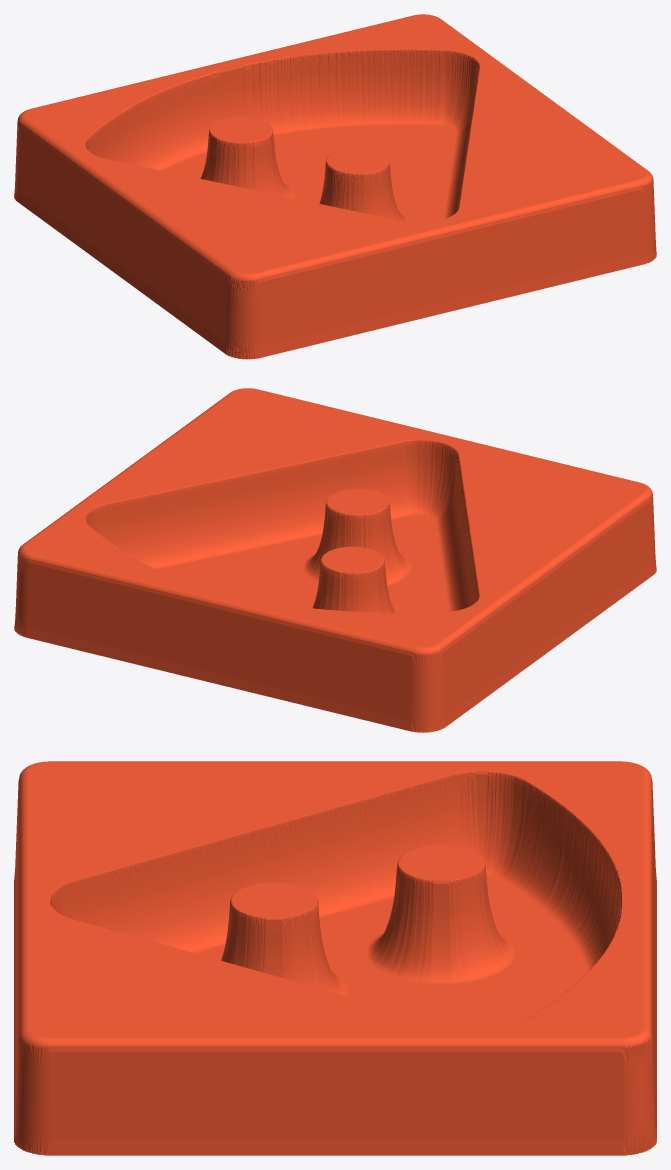
File: mold.glb
3 views of the same model, one above another, from view 1: azimuth 30°, elevation 25°; view 2: azimuth 150°, elevation 25°; view 3: azimuth 270°, elevation 25° (orthographic). The views are drawn at different scales.
Visible parts, largest first — view 1: geometry_0; view 2: geometry_0; view 3: geometry_0.
Boxes of the visible parts, box(x1,y1,x2,y2) form: geometry_0: box(14, 14, 656, 359); geometry_0: box(14, 388, 656, 732); geometry_0: box(14, 761, 656, 1155).
Bounding box in the file's own units: 0.1709 × 0.031 × 0.1615.
